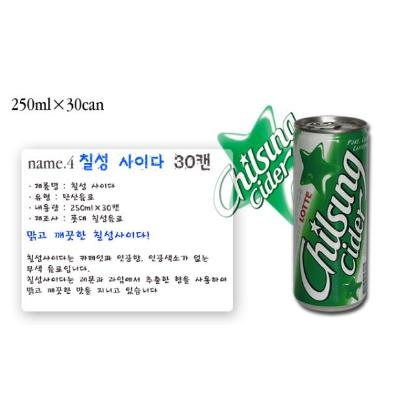Can: (293, 115, 371, 313)
